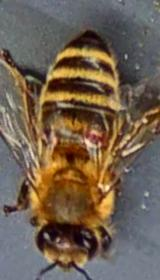varroa_mite: (73, 112, 114, 150)
